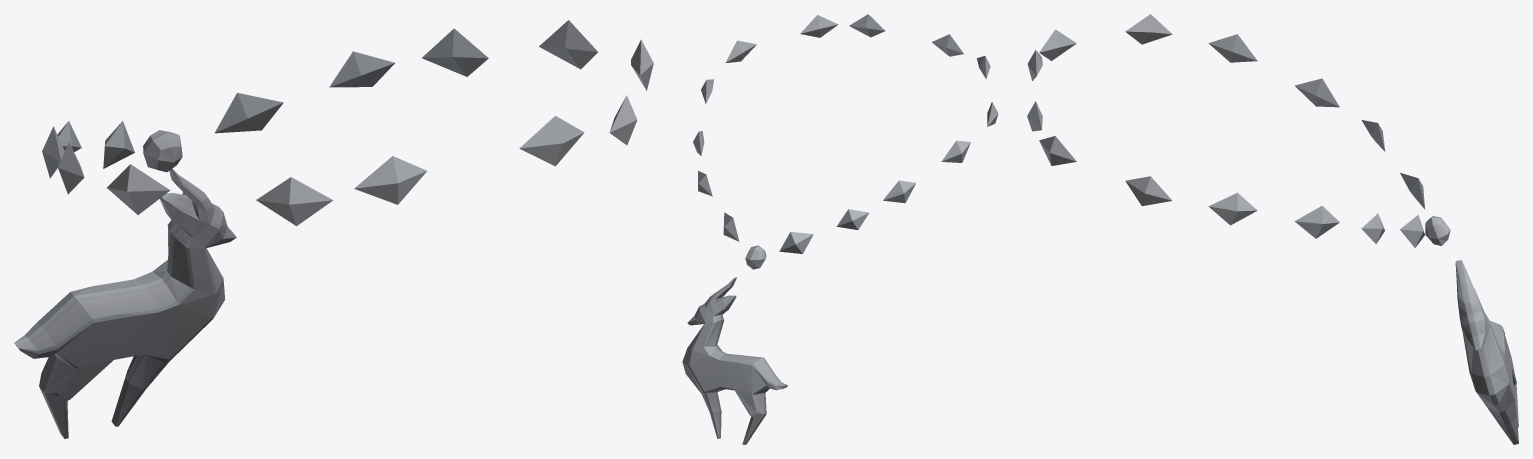
Rendered from CharSkyKid_Neck_AP21Pendant.glb.
3 renders of one model, left to right at view 1: azimuth 30°, elevation 25°; view 2: azimuth 150°, elevation 25°; view 3: azimuth 270°, elevation 25°, orthographic. The views are drawn at different scales.
Parts seen in each view (by area): view 1: CharSkyKid_Neck_AP21Pendant; view 2: CharSkyKid_Neck_AP21Pendant; view 3: CharSkyKid_Neck_AP21Pendant.
Boxes of the visible parts, <box> form: CharSkyKid_Neck_AP21Pendant: <box>14,20,653,438</box>; CharSkyKid_Neck_AP21Pendant: <box>682,14,998,444</box>; CharSkyKid_Neck_AP21Pendant: <box>1027,14,1518,444</box>.
Bounding box in the file's own units: 1.79 × 1.82 × 2.22.
Materials: 1 (1 with a texture image).
